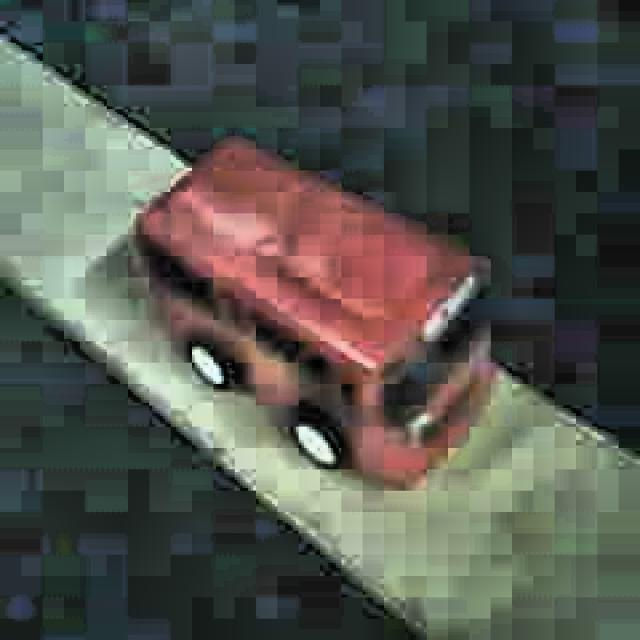bus: (135, 138, 496, 494)
